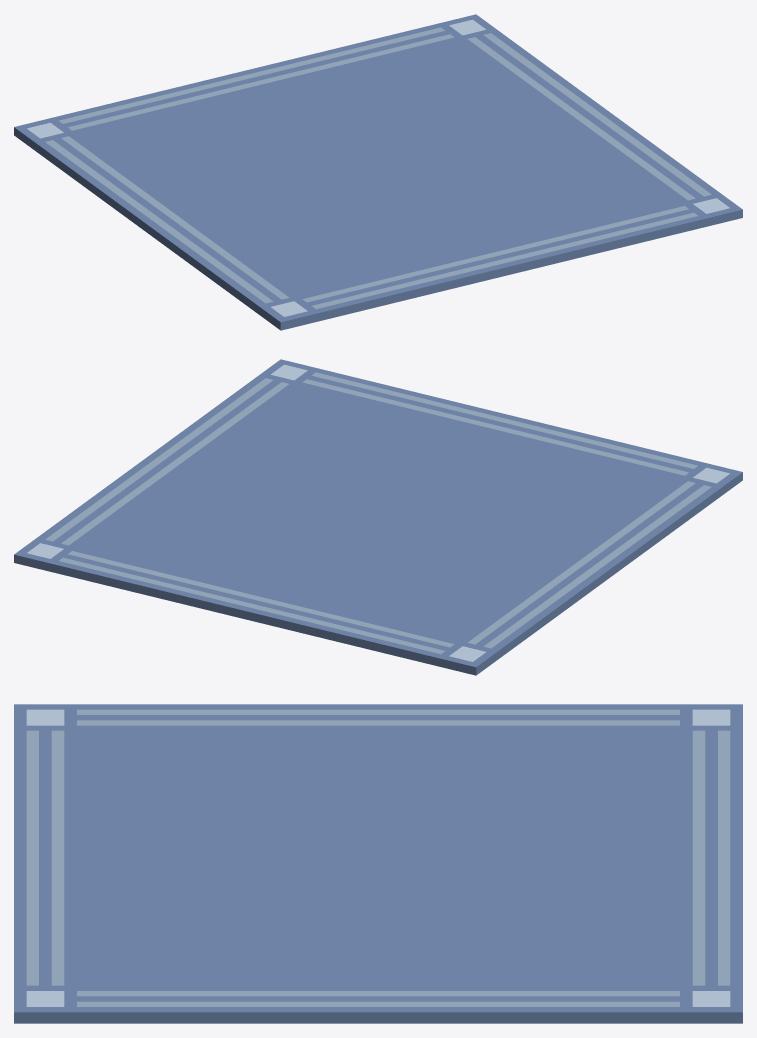
The model's file is Teppich02.fbx.
3 renders of one model, top to bottom at view 1: azimuth 30°, elevation 25°; view 2: azimuth 150°, elevation 25°; view 3: azimuth 270°, elevation 25°, orthographic. The views are drawn at different scales.
Visible parts, largest first — view 1: Teppich02; view 2: Teppich02; view 3: Teppich02.
Part boxes in pixels (box(x1,y1,x2,y2)): Teppich02: box(14, 14, 742, 330); Teppich02: box(14, 359, 742, 675); Teppich02: box(14, 704, 742, 1023).
Bounding box in the file's own units: 362 × 6.25 × 362.
